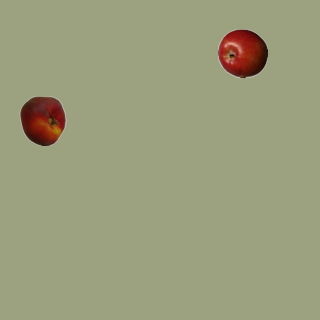Apple Braeburn: (217, 28, 267, 78)
Nectarine Flat: (17, 95, 67, 145)
